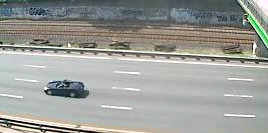car: (42, 77, 90, 100)
